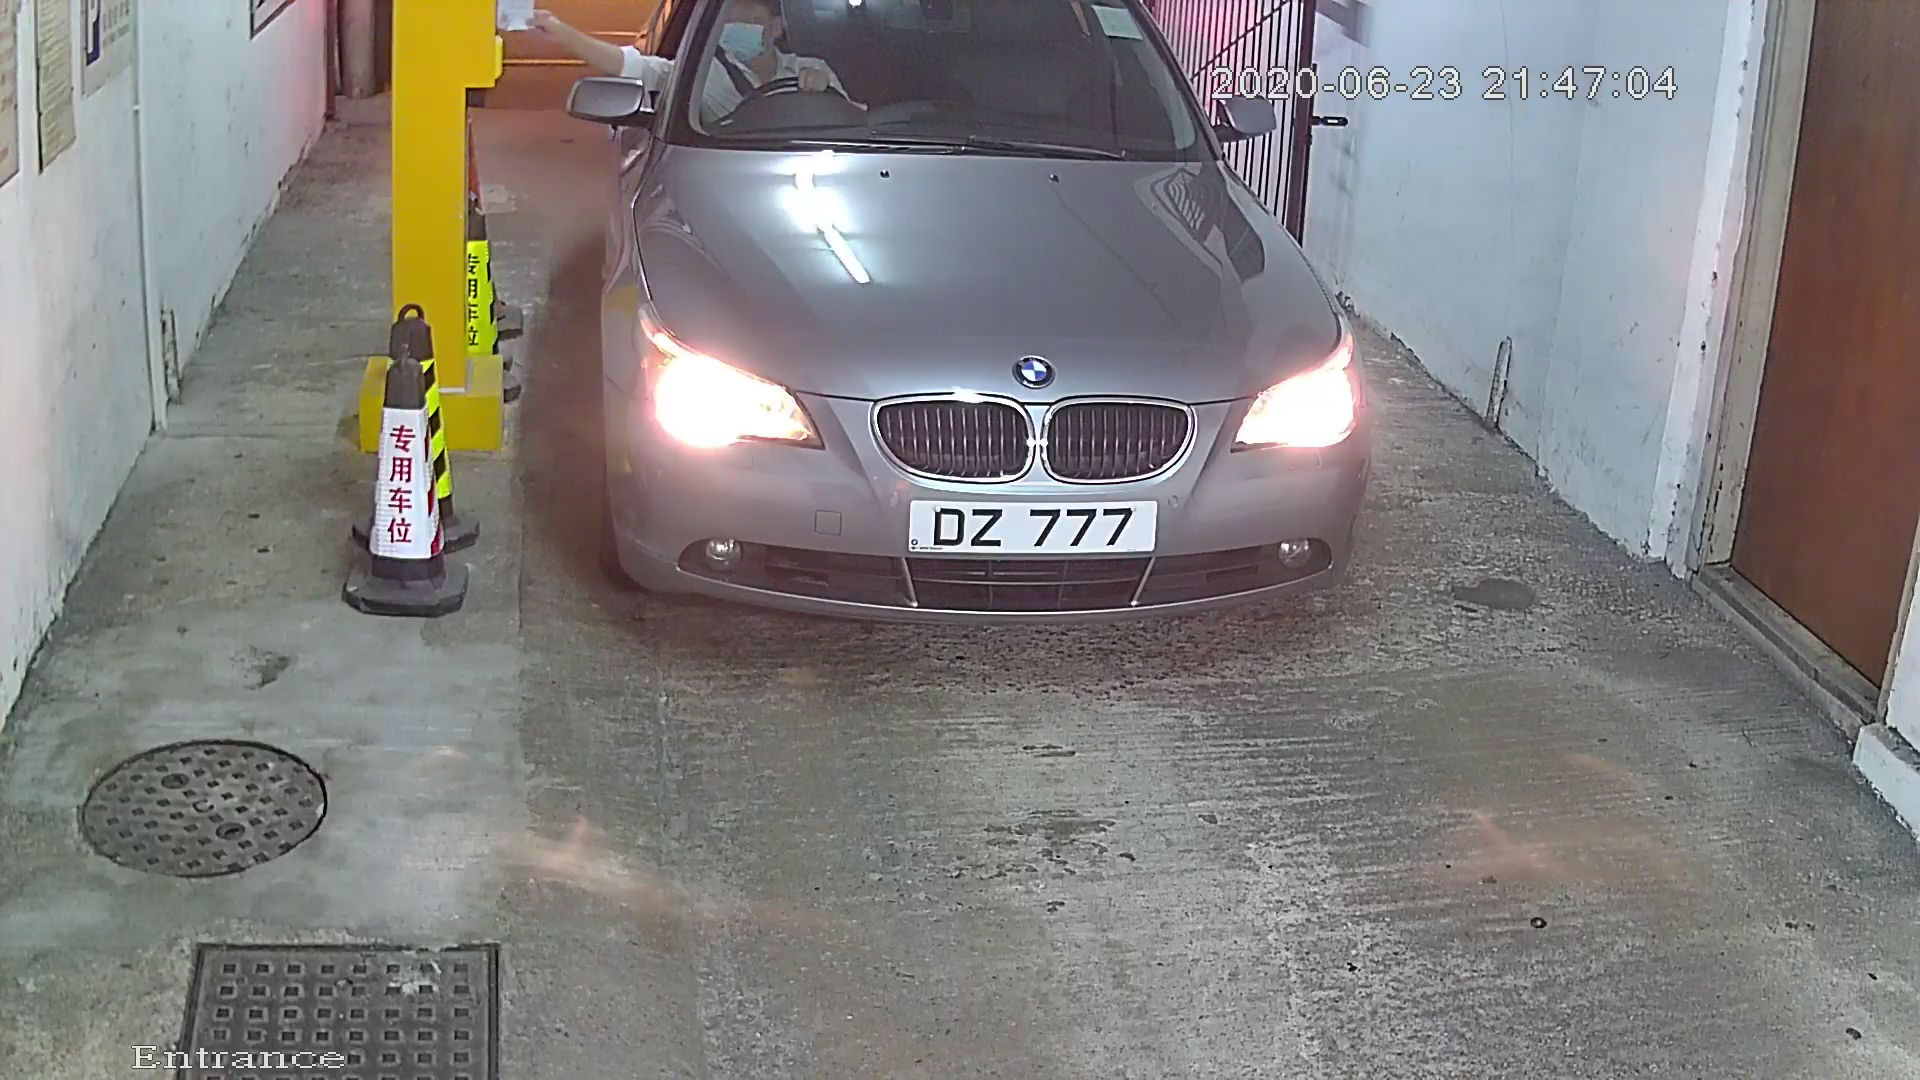privatecar: (551, 3, 1418, 651)
